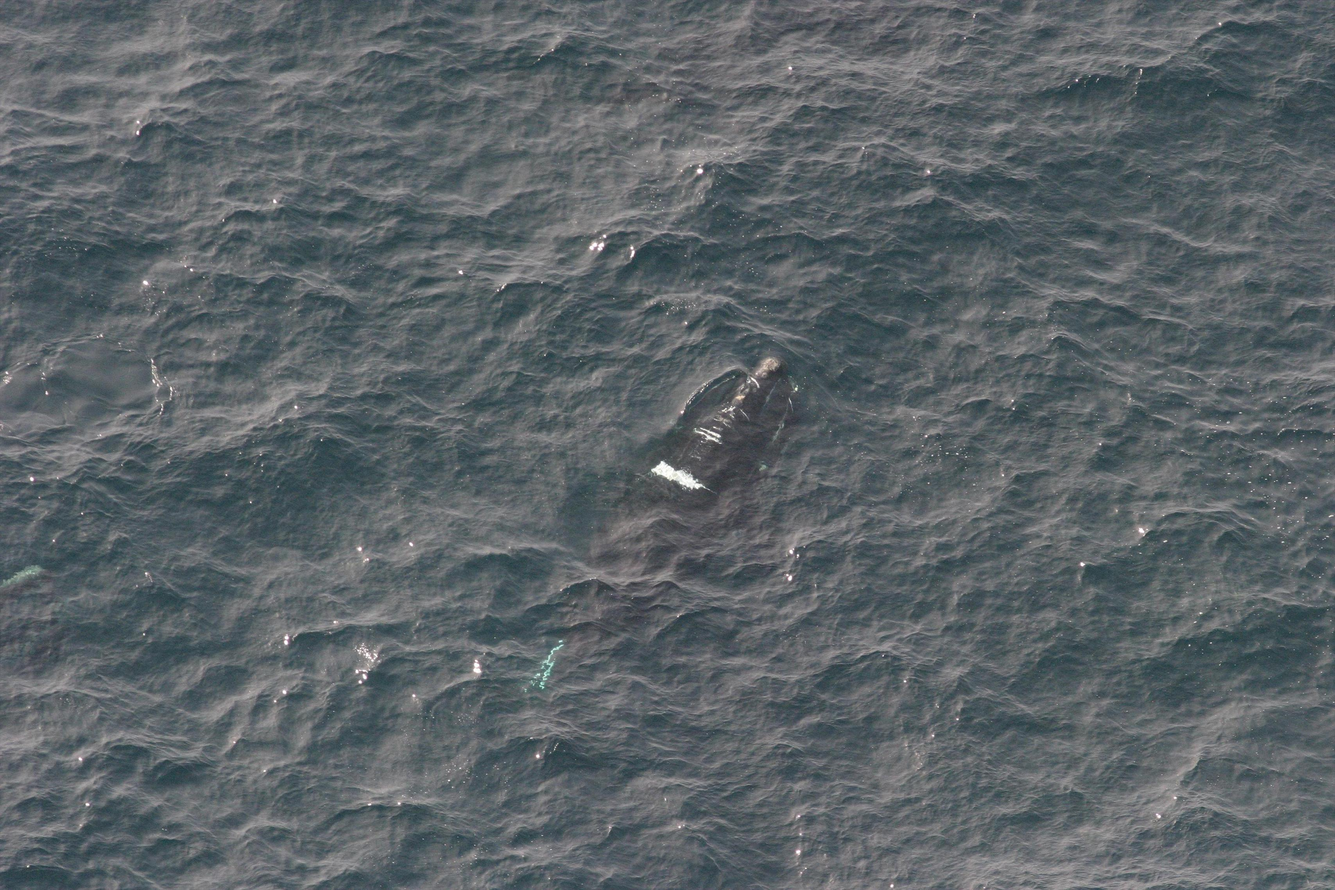whale: (449, 345, 805, 776)
